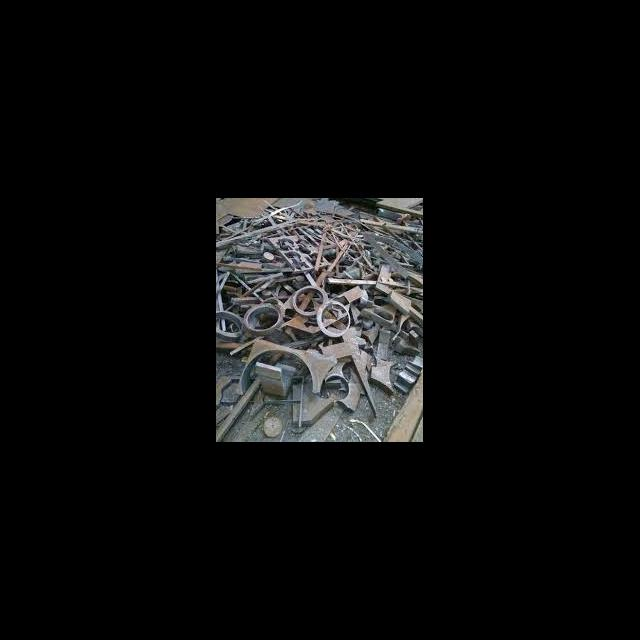metal: (264, 227, 332, 278), (288, 379, 340, 430), (250, 356, 298, 402), (314, 297, 356, 339), (240, 299, 288, 335), (372, 258, 413, 297), (288, 281, 330, 319), (356, 293, 401, 328), (366, 352, 398, 396), (216, 304, 246, 345), (392, 357, 422, 394), (326, 271, 380, 289), (310, 218, 328, 271), (384, 286, 412, 318)
